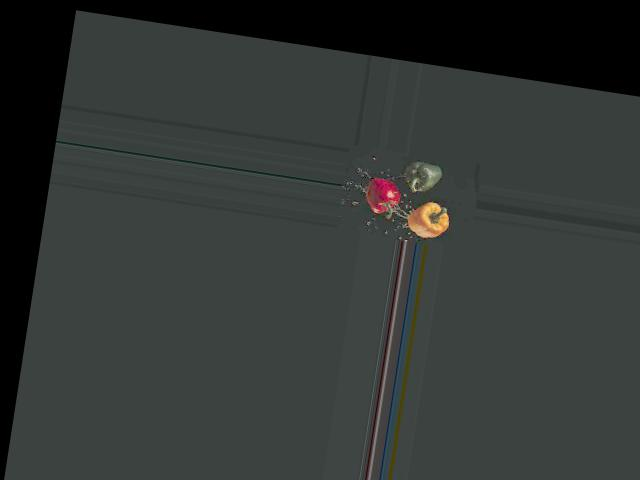bell_pepper: (361, 168, 410, 226)
